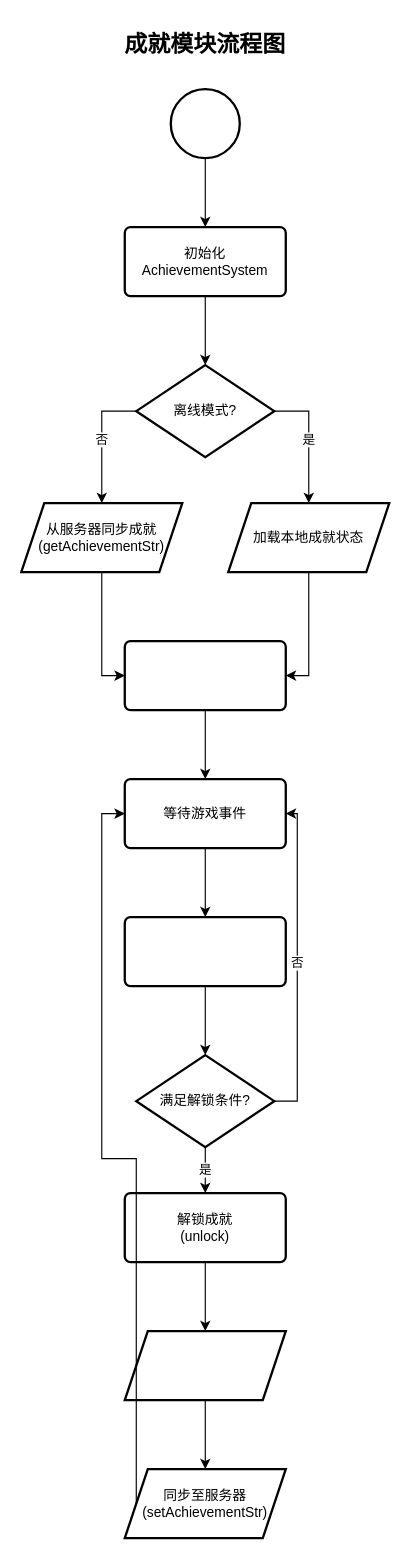
Image size: 409x1558. Some labels were removed from this diagram. Each missing label, with the centre of its shape:
事件触发 (消除/连击/金币): the point at 204,951
合并数据并更新: the point at 204,675
开始: the point at 204,123
弹窗通知 & 更新UI: the point at 204,1365
